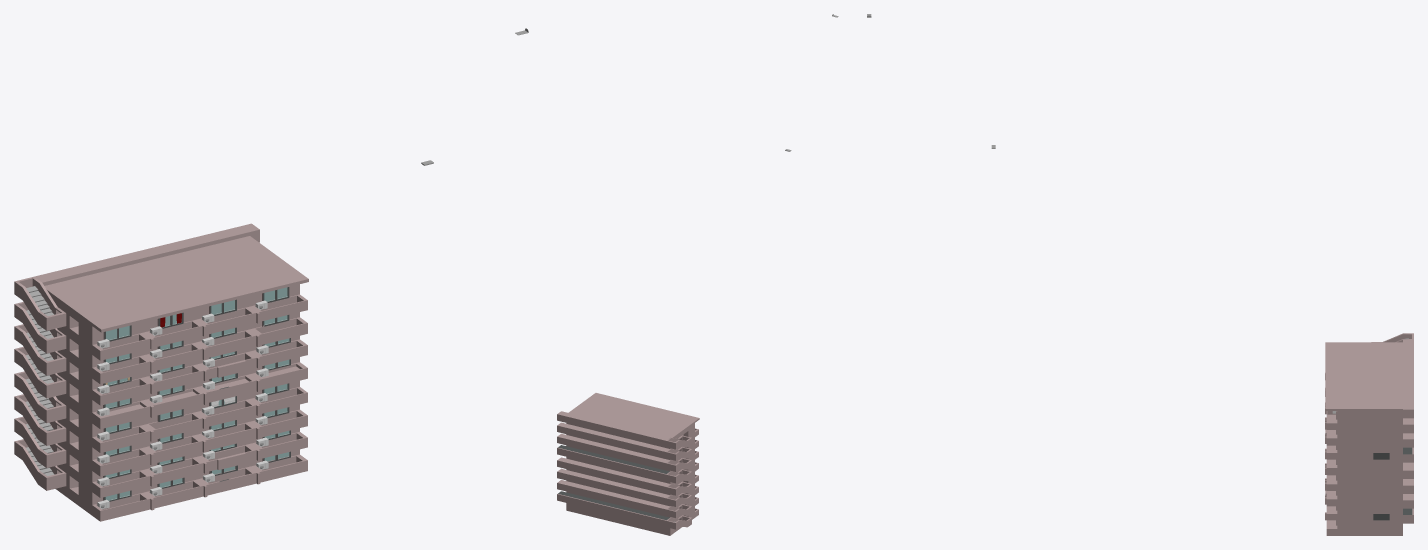
Rendered from bil03.fbx.
3 views of the same model, side by side, from view 1: azimuth 30°, elevation 25°; view 2: azimuth 150°, elevation 25°; view 3: azimuth 270°, elevation 25° (orthographic). The views are drawn at different scales.
Parts seen in each view (by area): view 1: polySurface334; view 2: polySurface334; view 3: polySurface334.
Boxes of the visible parts, left/top/right/bottom form: polySurface334: left=14, top=223, right=308, bottom=521; polySurface334: left=557, top=393, right=699, bottom=535; polySurface334: left=1325, top=333, right=1413, bottom=535.
Bounding box in the file's own units: 162 × 474 × 489.
